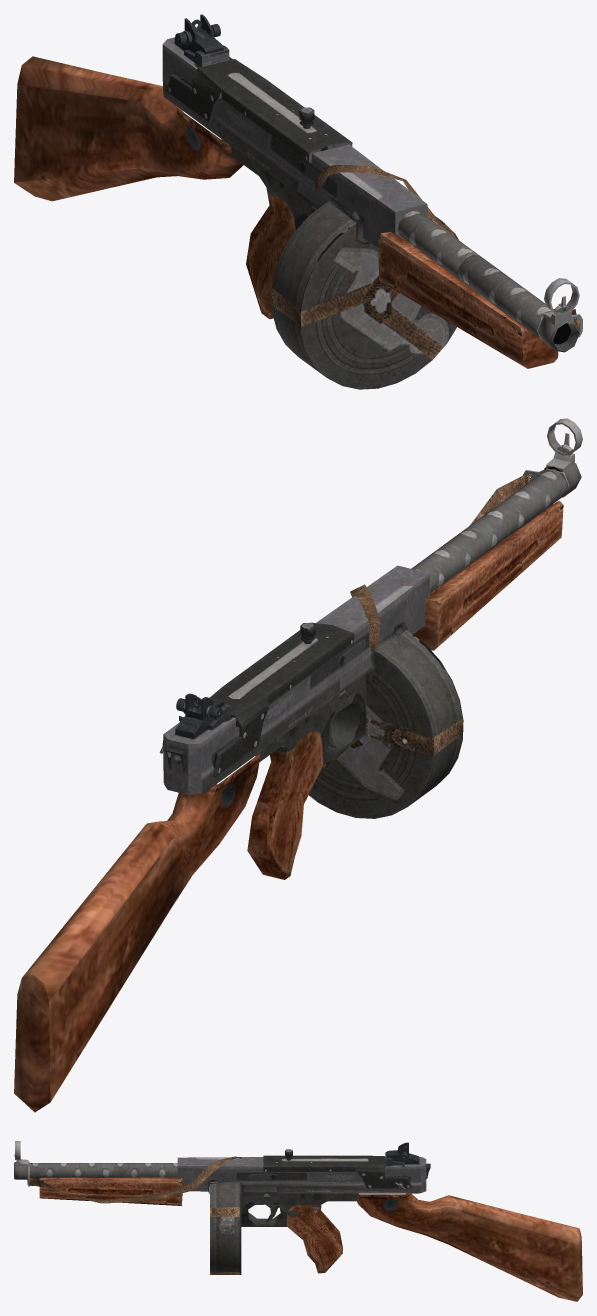
Rendered from SMG_cfq_qs_01_Body_Main_(000256).glb.
The picture shows the model from 3 angles, top to bottom: view 1: azimuth 30°, elevation 25°; view 2: azimuth 150°, elevation 25°; view 3: azimuth 270°, elevation 25°; orthographic projection. The views are drawn at different scales.
Visible parts, largest first — view 1: cfq_qs_01; view 2: cfq_qs_01; view 3: cfq_qs_01.
Part boxes in pixels (x1=…): cfq_qs_01: x1=14, y1=14, x2=582, y2=389; cfq_qs_01: x1=14, y1=418, x2=582, y2=1112; cfq_qs_01: x1=14, y1=1141, x2=582, y2=1301.
Size of the model in its own units: 0.2796 by 0.4778 by 1.54.
1 material, 1 textured.
